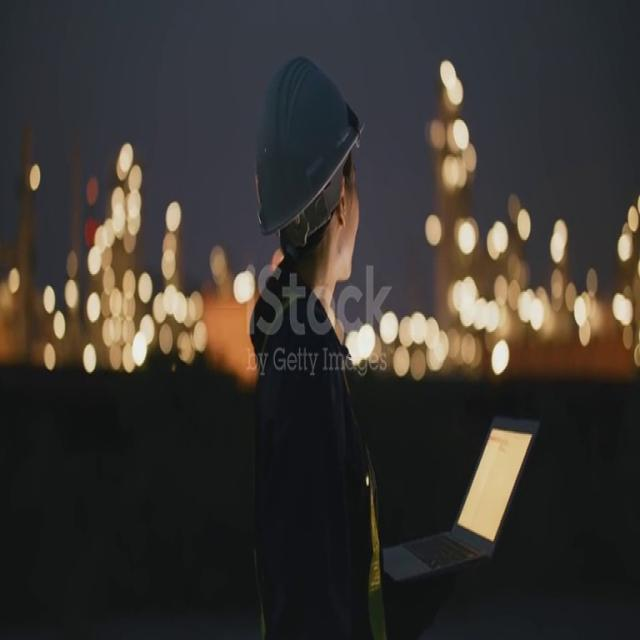capacete: (236, 48, 373, 250)
